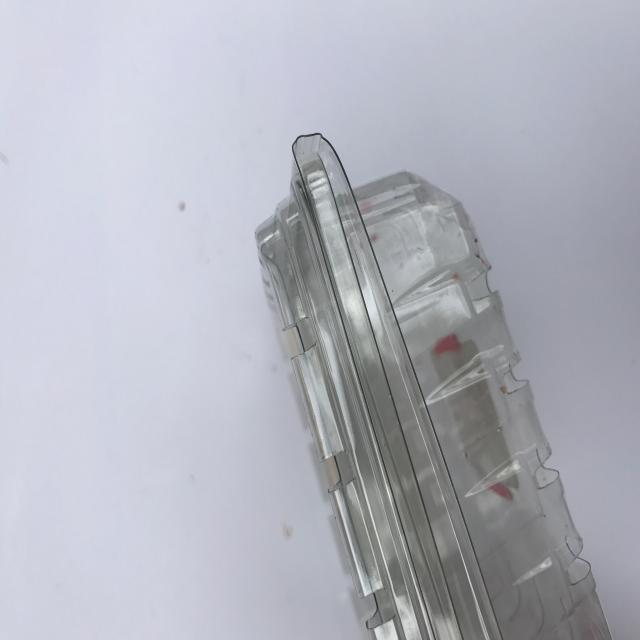plastic: (254, 132, 616, 640)
